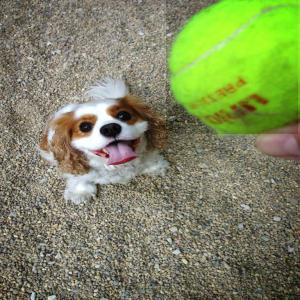TennisBall: (167, 1, 300, 136)
